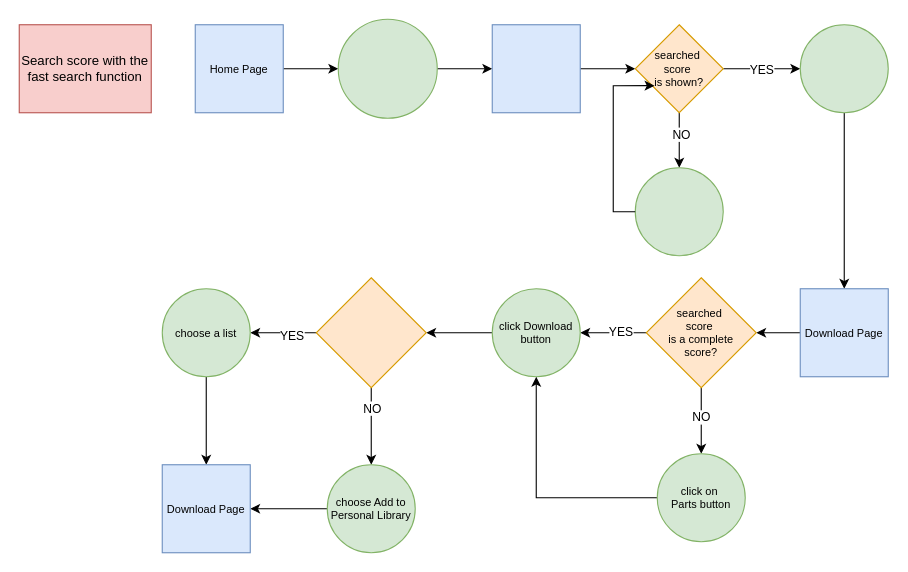
Image size: 908x572. Some labels were removed from this diagram. The centre of each missing label's shape, as x and y in pixels:
"add score to a list?" goes at (x=370, y=332).
"click on the score" goes at (x=843, y=68).
"filter items" goes at (x=678, y=211).
"Library Page" goes at (x=535, y=68).
"write piece name / composer name" goes at (x=387, y=68).
